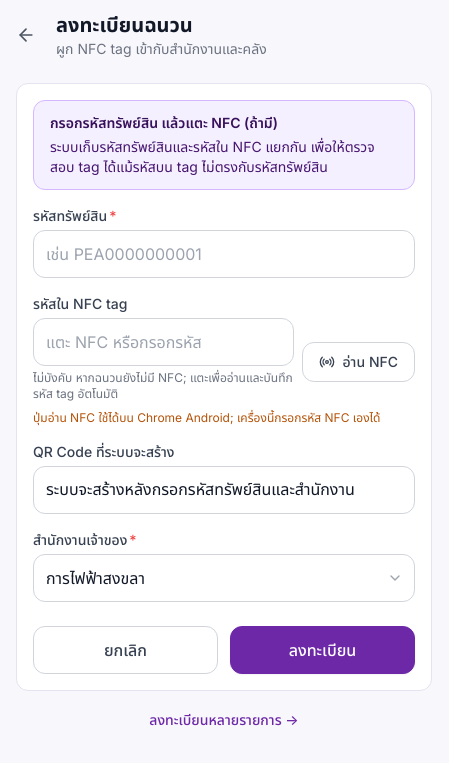
Scenario: RegisterCoverPage — single add (Flow 2) › blocks submit and shows a validation error when assetCode is empty
The image size is (449, 763).
Select "การไฟฟ้าสงขลา" in the dropdown labelled "สำนักงานเจ้าของ*" at x=224, y=578, box 33,554 -> 415,602
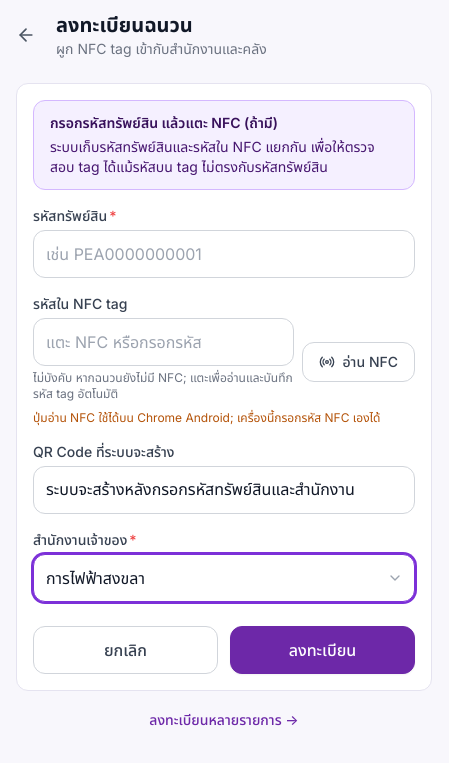
Click the button "ลงทะเบียน" at x=322, y=650, box 230,626 -> 415,674
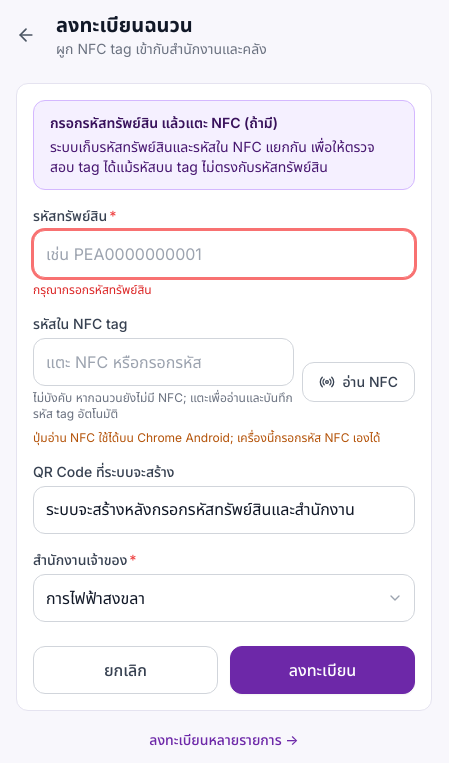
Expected: the text "กรุณากรอกรหัสทรัพย์สิน" is shown, 33,282 -> 152,297
